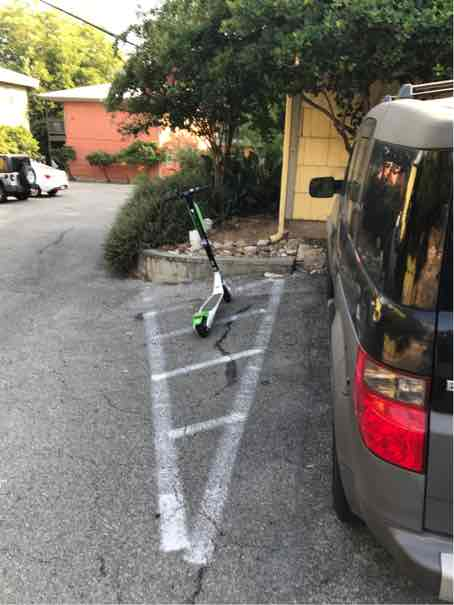scooter: (167, 174, 245, 347)
